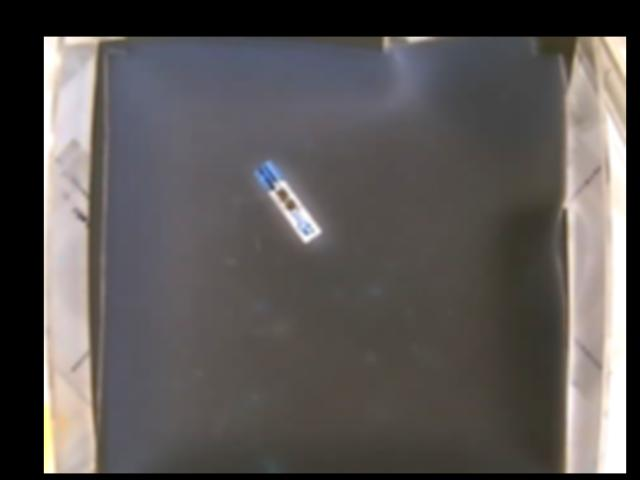Battery: (253, 161, 321, 240)
